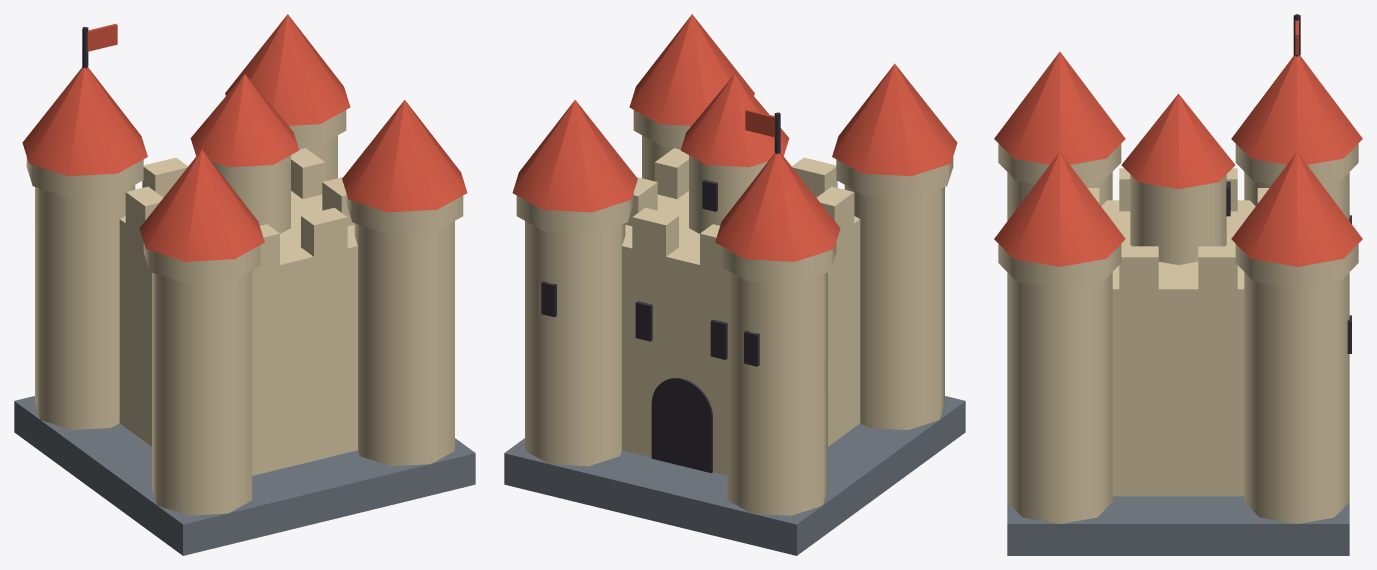
File: AQ_CASTLE.glb
3 views of the same model, side by side, from view 1: azimuth 30°, elevation 25°; view 2: azimuth 150°, elevation 25°; view 3: azimuth 270°, elevation 25° (orthographic).
Visible parts, largest first — view 1: towers, tower_roofs, keep, base_rock, tower_rings, crenels, turret_roof, turret, flag; view 2: towers, tower_roofs, keep, base_rock, tower_rings, crenels, turret_roof, door, turret, windows, flag; view 3: towers, tower_roofs, keep, base_rock, tower_rings, turret, turret_roof, crenels.
Boxes of the visible parts, x1,y1,x2,y2 form: towers: [35, 135, 454, 515]; tower_roofs: [22, 14, 467, 261]; keep: [119, 191, 357, 475]; base_rock: [14, 396, 475, 555]; tower_rings: [26, 110, 463, 283]; crenels: [125, 148, 354, 271]; turret_roof: [190, 74, 299, 167]; turret: [212, 155, 290, 233]; flag: [87, 23, 117, 51]; towers: [525, 135, 944, 515]; tower_roofs: [512, 14, 957, 261]; keep: [622, 191, 860, 475]; base_rock: [504, 396, 965, 555]; tower_rings: [516, 110, 953, 283]; crenels: [625, 148, 854, 271]; turret_roof: [680, 74, 789, 167]; door: [651, 378, 712, 473]; turret: [689, 155, 767, 233]; windows: [541, 179, 759, 366]; flag: [745, 109, 775, 137]; towers: [1007, 172, 1349, 523]; tower_roofs: [994, 51, 1362, 266]; keep: [1101, 200, 1255, 496]; base_rock: [1007, 496, 1349, 555]; tower_rings: [998, 143, 1358, 288]; turret: [1130, 174, 1226, 264]; turret_roof: [1121, 93, 1235, 189]; crenels: [1087, 168, 1269, 289].
Bounding box in the file's own units: 3.99 × 4.99 × 3.99.
